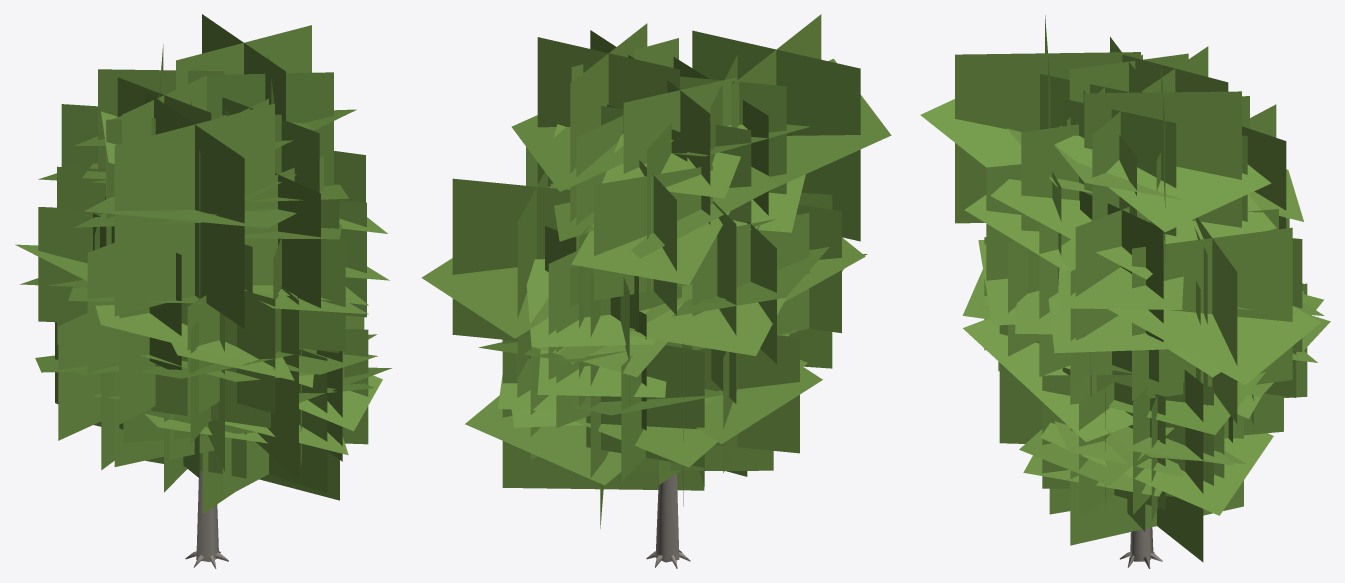
The model's file is tilleul_2_f2_loin.glb.
The picture shows the model from 3 angles, left to right: view 1: azimuth 30°, elevation 25°; view 2: azimuth 150°, elevation 25°; view 3: azimuth 270°, elevation 25°; orthographic projection. The views are drawn at different scales.
Parts seen in each view (by area): view 1: Tilleul_T2_f2_Leger_Loin; view 2: Tilleul_T2_f2_Leger_Loin; view 3: Tilleul_T2_f2_Leger_Loin.
Part boxes in pixels (box(x1,y1,x2,y2)): Tilleul_T2_f2_Leger_Loin: box(15, 14, 391, 568); Tilleul_T2_f2_Leger_Loin: box(421, 14, 891, 568); Tilleul_T2_f2_Leger_Loin: box(920, 15, 1330, 568).
Size of the model in its own units: 8.68 by 11.35 by 8.6.
